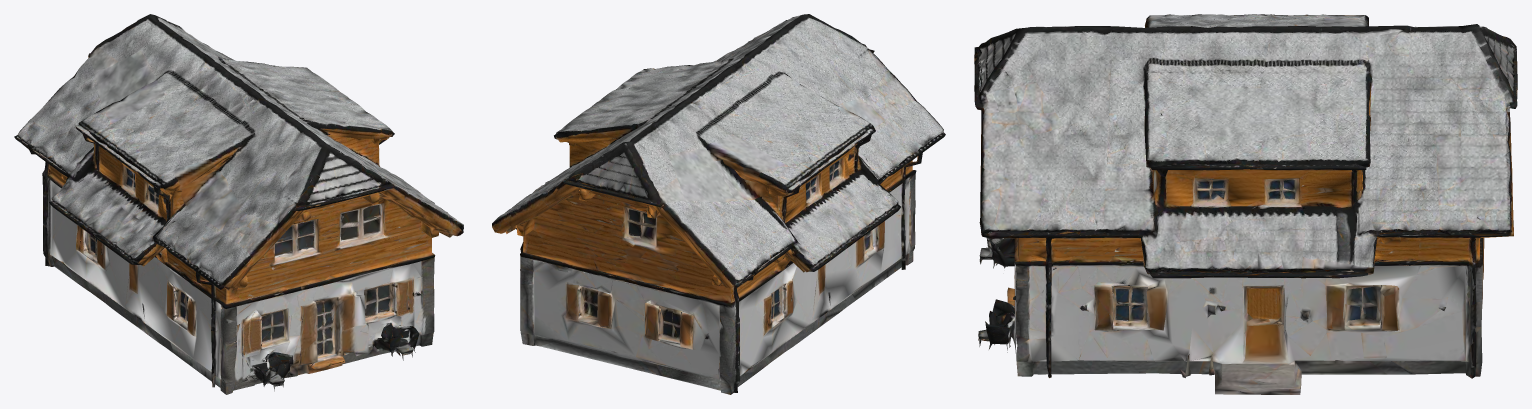
The model's file is chalet_lo.glb.
3 views of the same model, side by side, from view 1: azimuth 30°, elevation 25°; view 2: azimuth 150°, elevation 25°; view 3: azimuth 270°, elevation 25° (orthographic). The views are drawn at different scales.
Bounding box in the file's own units: 1.07 × 0.8033 × 1.38.
1 material, 1 textured.
